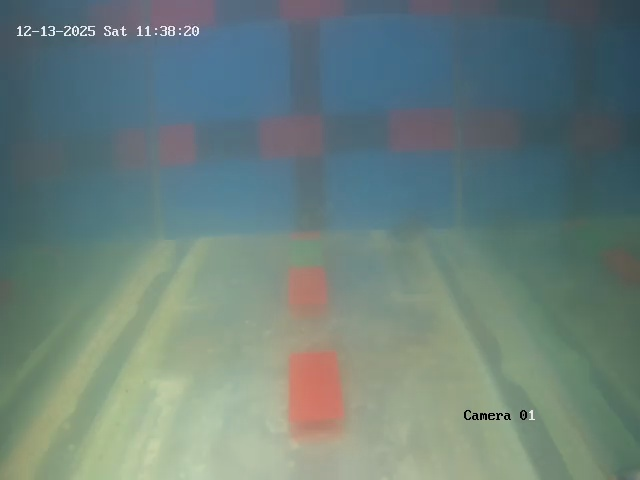fish: (384, 213, 430, 247)
